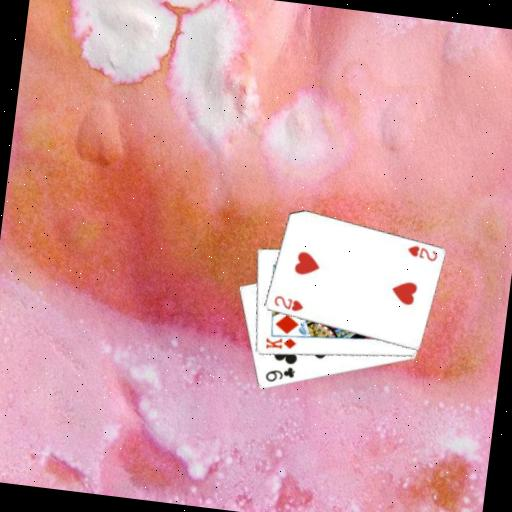2H: (270, 291, 306, 314), (403, 241, 439, 263)
9C: (262, 361, 298, 386)
KD: (262, 332, 299, 354)
